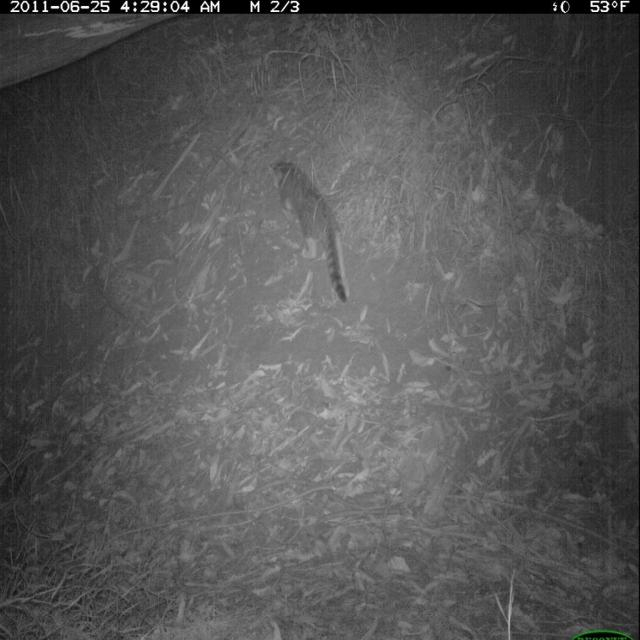cat: (263, 142, 354, 309)
